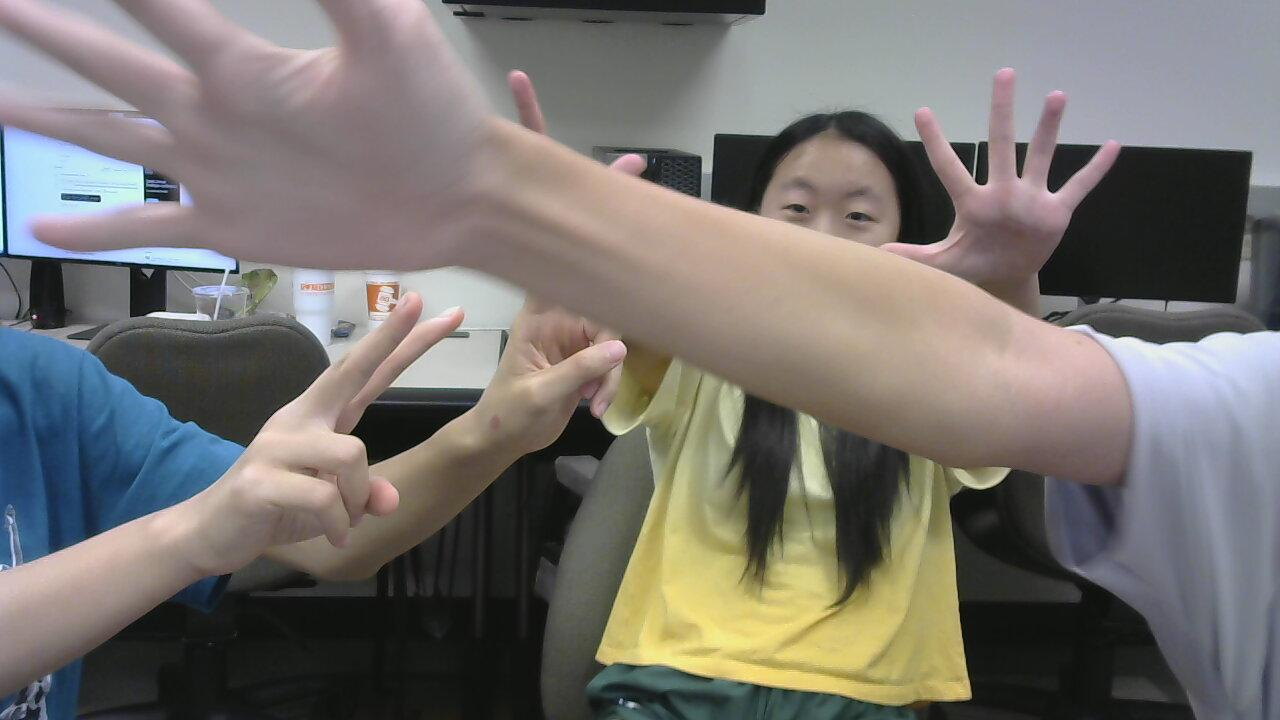hands: (0, 0, 510, 296), (889, 82, 1128, 300), (494, 275, 639, 457)
peace: (227, 293, 484, 583)
